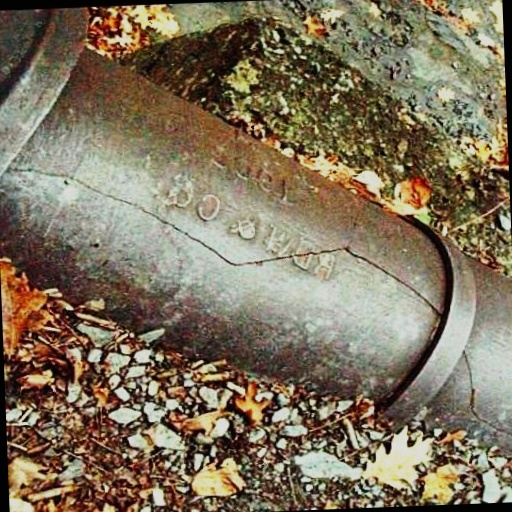crack: (0, 94, 252, 247), (484, 235, 512, 503)
